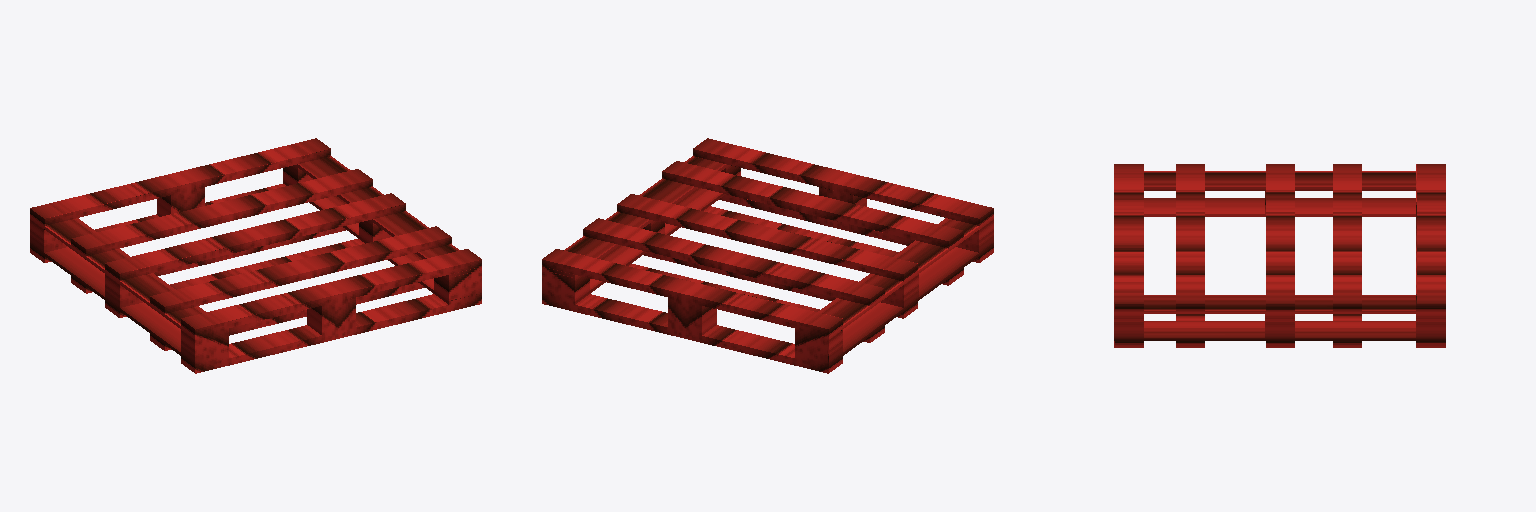
3 renders of one model, left to right at view 1: azimuth 30°, elevation 25°; view 2: azimuth 150°, elevation 25°; view 3: azimuth 270°, elevation 25°, orthographic.
Parts seen in each view (by area): view 1: initialTextureBakeSet palletMain:Mesh; view 2: initialTextureBakeSet palletMain:Mesh; view 3: initialTextureBakeSet palletMain:Mesh.
Part boxes in pixels (x1,y1,x2,y2): initialTextureBakeSet palletMain:Mesh: (30, 138, 481, 373); initialTextureBakeSet palletMain:Mesh: (542, 138, 993, 373); initialTextureBakeSet palletMain:Mesh: (1114, 164, 1445, 347).
Size of the model in its own units: 0.4469 by 0.0661 by 0.4471.
Materials: 1 (1 with a texture image).